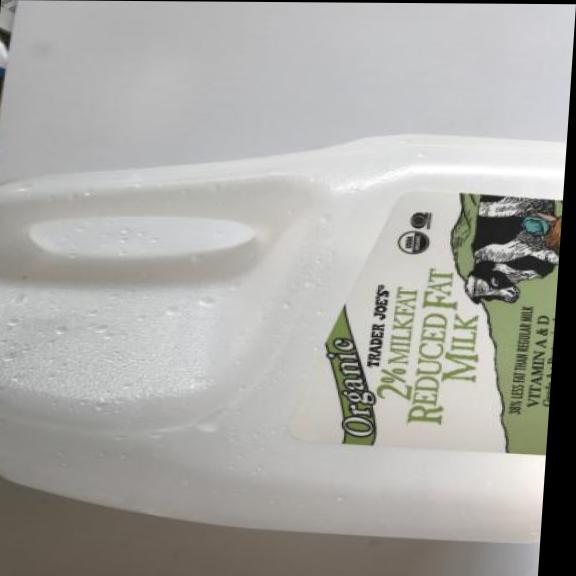Plastik: (0, 126, 568, 548)
